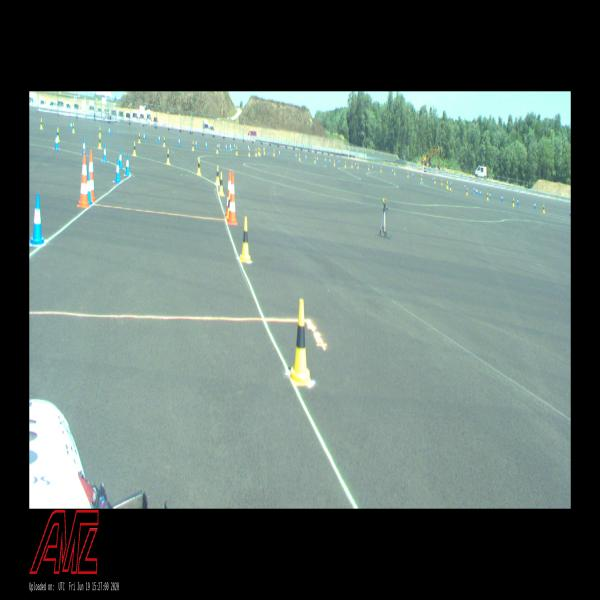blue_cone: (31, 194, 44, 244), (114, 158, 121, 182), (87, 172, 92, 204), (102, 143, 108, 162), (125, 154, 130, 175), (54, 132, 59, 150), (119, 149, 123, 168), (82, 138, 86, 155), (108, 126, 111, 136), (70, 120, 72, 130), (158, 134, 160, 144), (144, 132, 146, 141), (534, 201, 536, 209), (501, 194, 503, 202), (206, 141, 208, 149), (195, 140, 197, 148), (295, 152, 297, 159), (489, 192, 491, 199), (473, 186, 475, 192), (329, 158, 331, 164), (234, 143, 236, 149), (412, 172, 414, 178), (305, 154, 307, 160), (464, 184, 466, 189), (338, 159, 340, 164), (432, 176, 434, 181), (226, 142, 227, 150), (179, 138, 180, 146), (219, 142, 220, 150), (450, 182, 452, 186), (477, 188, 478, 196), (230, 143, 231, 150), (517, 198, 518, 205), (279, 149, 280, 156), (480, 189, 481, 196), (325, 157, 326, 163), (317, 156, 318, 162), (355, 161, 356, 167), (392, 168, 393, 174), (248, 144, 249, 150), (263, 146, 264, 152), (372, 164, 373, 170), (476, 188, 476, 194), (570, 209, 570, 216)
large_orange_cone: (77, 153, 89, 208), (228, 172, 238, 225), (89, 150, 97, 202), (225, 170, 231, 217)
yellow_cone: (290, 299, 311, 384), (240, 217, 251, 262), (226, 191, 231, 221), (219, 172, 224, 196), (215, 165, 220, 185), (166, 149, 171, 165), (197, 158, 201, 175), (132, 141, 136, 156), (98, 133, 102, 148), (57, 127, 60, 142), (40, 118, 43, 129), (72, 123, 75, 133), (138, 134, 141, 143), (163, 137, 166, 146), (512, 198, 515, 206), (486, 193, 489, 200), (446, 182, 449, 189), (192, 141, 194, 151), (216, 144, 218, 153), (99, 127, 101, 136), (236, 146, 238, 155), (543, 204, 545, 213), (255, 148, 257, 156), (466, 188, 468, 195), (259, 149, 261, 156), (357, 162, 359, 169), (248, 149, 250, 156), (273, 150, 275, 157), (440, 179, 442, 185), (351, 162, 353, 168), (407, 172, 409, 178), (314, 157, 316, 163), (380, 166, 382, 172), (434, 178, 436, 184), (334, 159, 335, 166), (299, 154, 300, 161), (264, 148, 265, 155), (345, 161, 346, 168), (368, 164, 369, 170), (394, 169, 395, 175), (450, 184, 451, 190), (258, 148, 259, 154), (446, 181, 447, 187), (421, 175, 422, 180)
